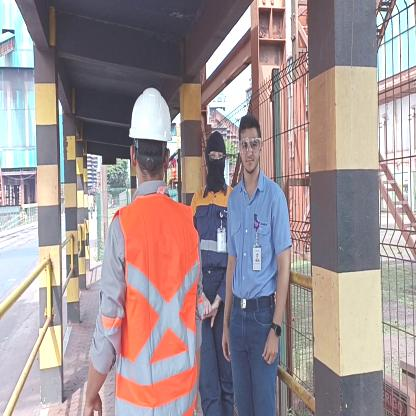Balaclava: (203, 127, 226, 186)
Capacete: (127, 86, 173, 142)
colete: (113, 207, 204, 416)
